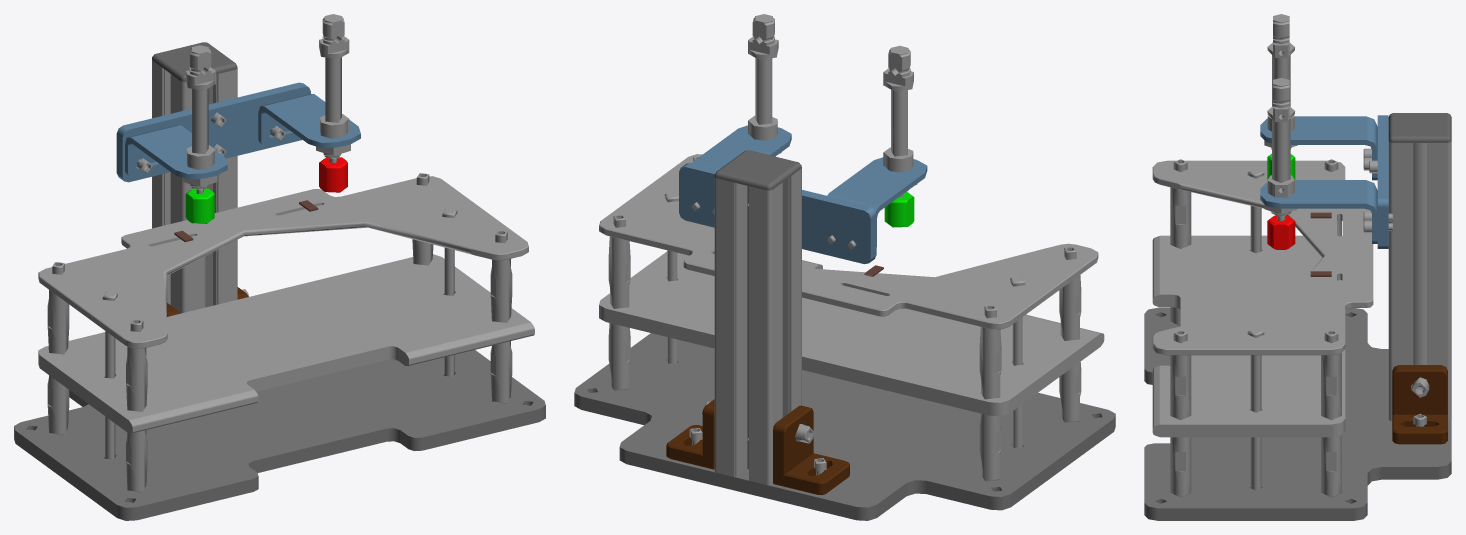
The model's file is JarDetection.fbx.
The picture shows the model from 3 angles, left to right: view 1: azimuth 30°, elevation 25°; view 2: azimuth 150°, elevation 25°; view 3: azimuth 270°, elevation 25°; orthographic projection. The views are drawn at different scales.
Parts seen in each view (by area): view 1: jar_detection; view 2: jar_detection; view 3: jar_detection.
Boxes of the visible parts, box(x1,y1,x2,y2) form: jar_detection: box(14, 14, 545, 520); jar_detection: box(574, 14, 1115, 520); jar_detection: box(1144, 14, 1451, 520).
Size of the model in its own units: 0.34 by 0.22 by 0.2935.
